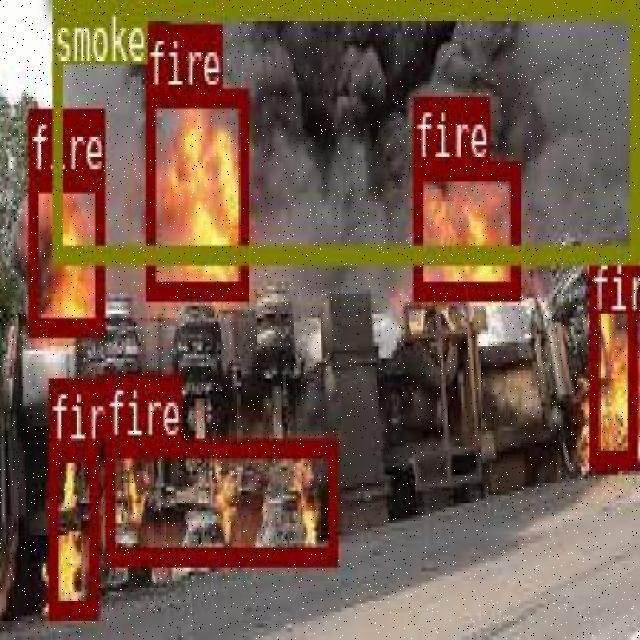Smoke: (50, 0, 635, 193)
